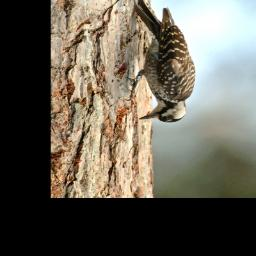Woodpecker: (124, 0, 197, 126)
